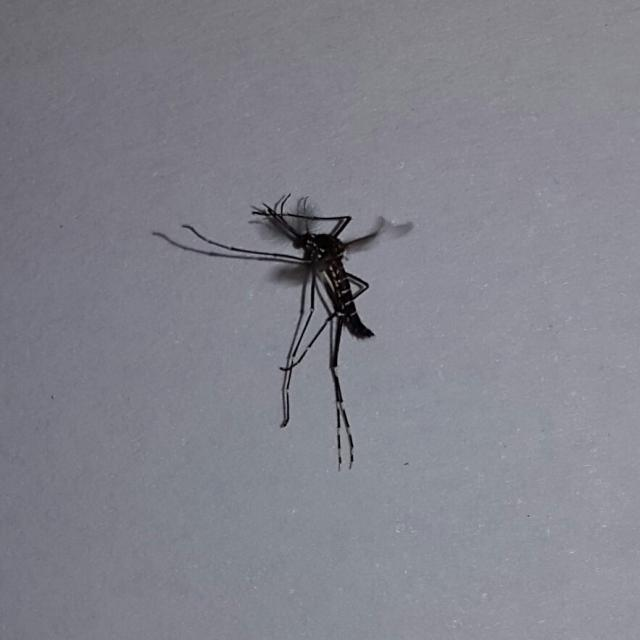albopictus: (162, 180, 394, 472)
